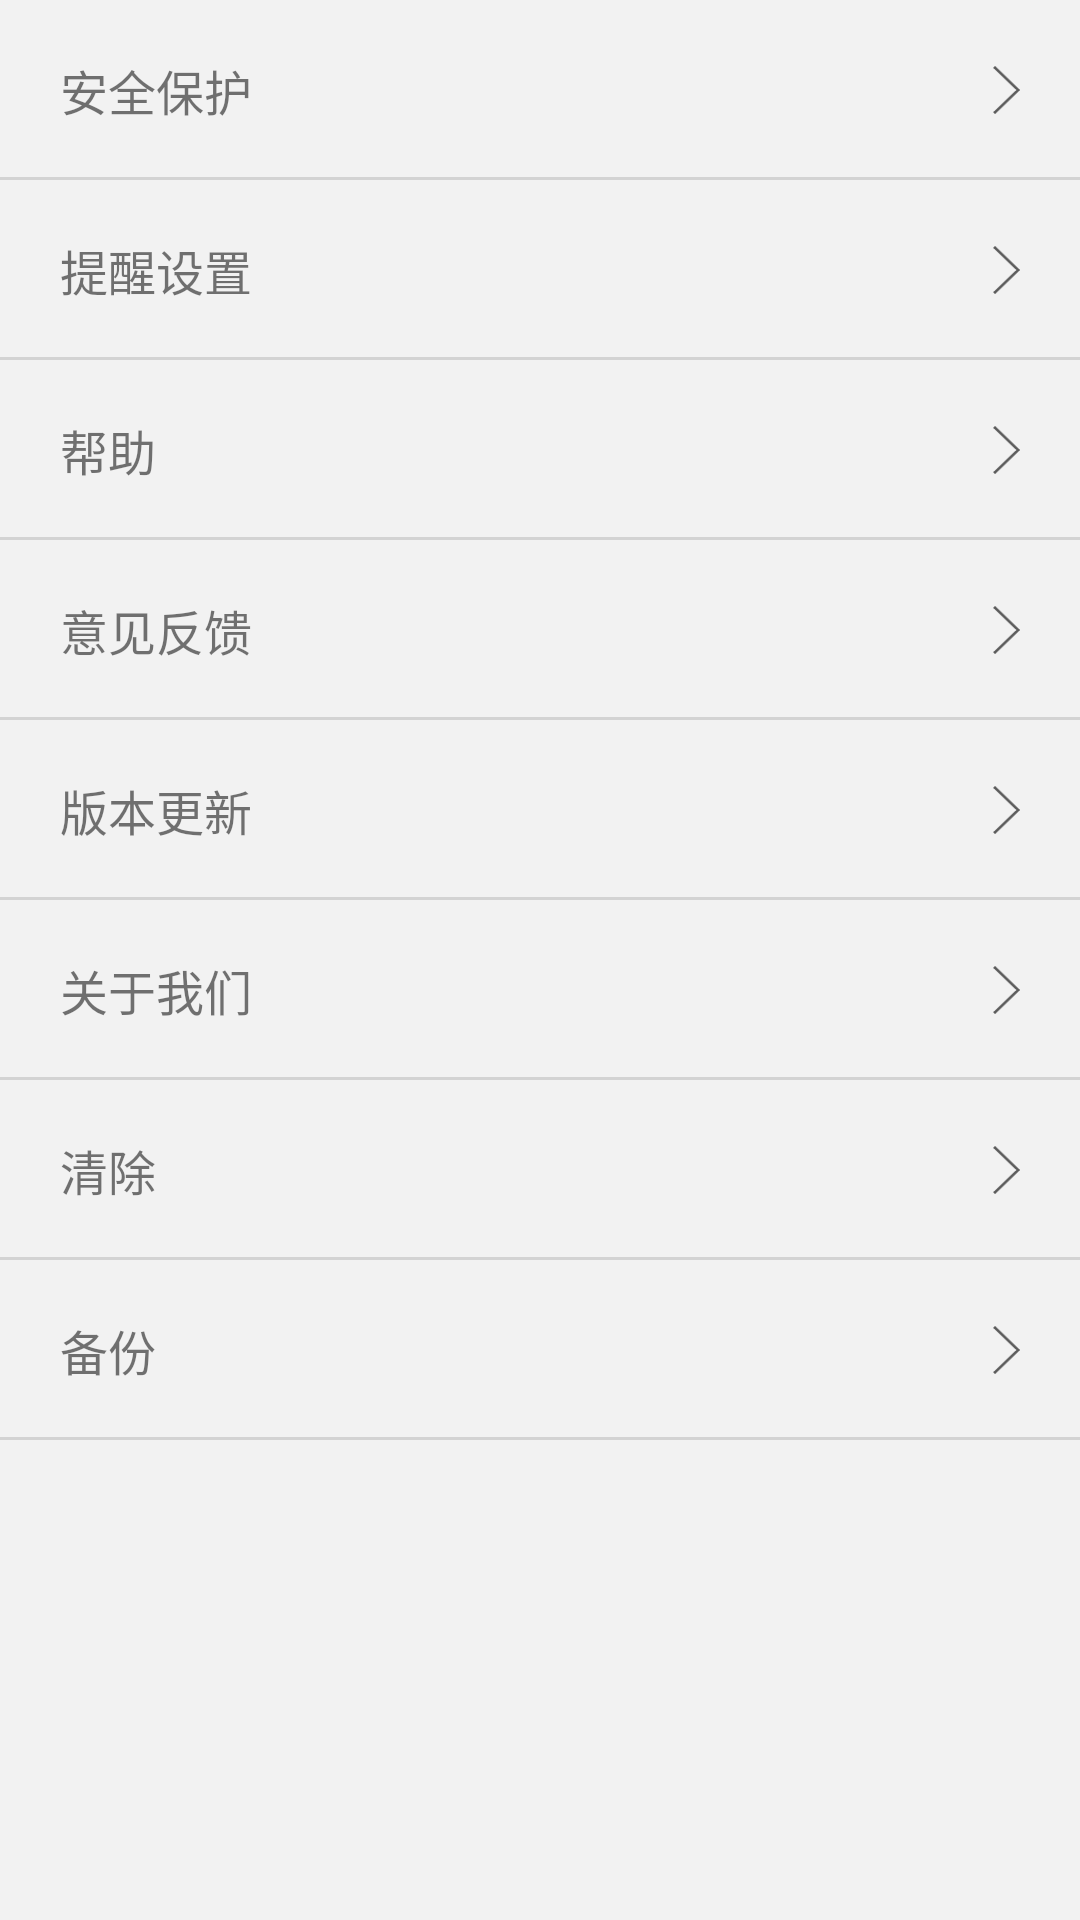

Icon bounding boxes for this 1080 × 1920 phone screenshot, format (x1, y1, x2, y2):
arrow: (993, 66, 1020, 114), (993, 246, 1020, 294), (993, 426, 1020, 474), (993, 606, 1020, 654), (993, 786, 1020, 834), (993, 966, 1020, 1014), (993, 1146, 1020, 1194), (993, 1326, 1020, 1374)
